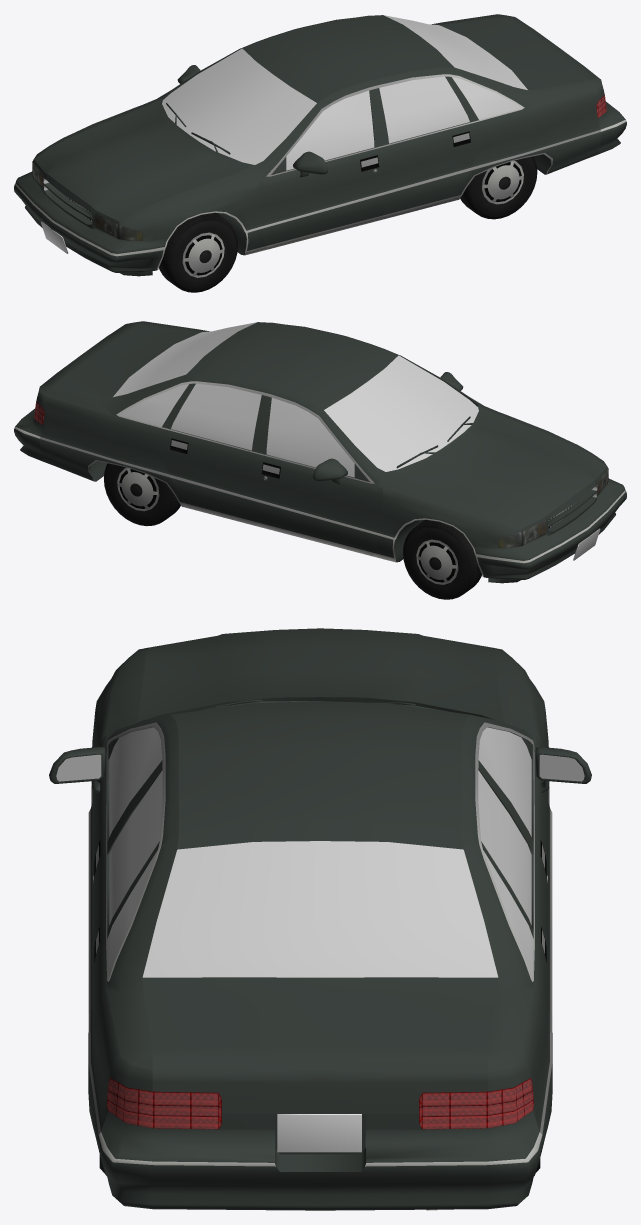
File: carFixed.fbx
3 renders of one model, top to bottom at view 1: azimuth 30°, elevation 25°; view 2: azimuth 150°, elevation 25°; view 3: azimuth 270°, elevation 25°, orthographic. The views are drawn at different scales.
Parts seen in each view (by area): view 1: Cube_015, Cube_019, Cube_008, Cube_002; view 2: Cube_015, Cube_019, Cube_007, Cube_000; view 3: Cube_015, Cube_019, Cube_006, Cube_003.
Part boxes in pixels (x1,y1,x2,y2): Cube_015: (14, 14, 626, 276); Cube_019: (162, 15, 527, 170); Cube_008: (159, 213, 237, 292); Cube_002: (460, 156, 537, 219); Cube_015: (14, 321, 626, 583); Cube_019: (113, 322, 478, 477); Cube_007: (403, 520, 481, 599); Cube_000: (104, 463, 180, 526); Cube_015: (49, 628, 591, 1210); Cube_019: (107, 727, 533, 979); Cube_006: (277, 1114, 361, 1152); Cube_003: (56, 754, 584, 781).
Size of the model in its own units: 9.76 by 2.78 by 4.34.
